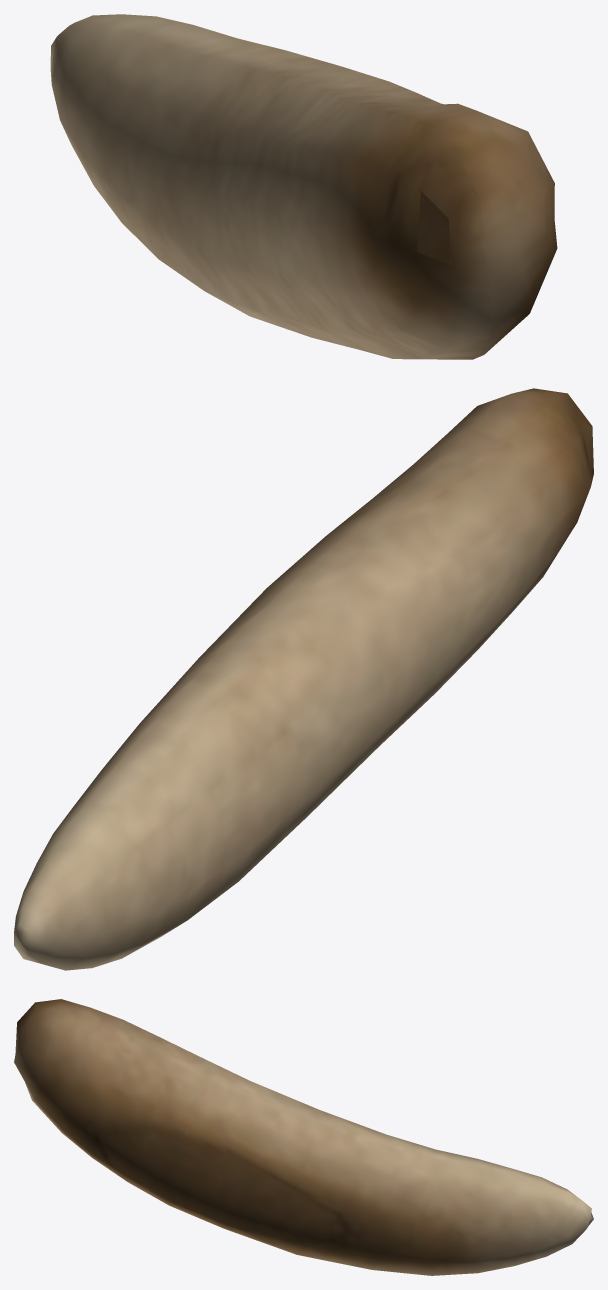
The model's file is Lower_Incisor.glb.
3 renders of one model, top to bottom at view 1: azimuth 30°, elevation 25°; view 2: azimuth 150°, elevation 25°; view 3: azimuth 270°, elevation 25°, orthographic. The views are drawn at different scales.
Parts seen in each view (by area): view 1: Lower_Incisor4; view 2: Lower_Incisor4; view 3: Lower_Incisor4.
Boxes of the visible parts, box(x1,y1,x2,y2) form: Lower_Incisor4: box(50, 14, 557, 359); Lower_Incisor4: box(14, 388, 593, 970); Lower_Incisor4: box(14, 999, 593, 1275).
Size of the model in its own units: 0.00976 by 0.0146 by 0.0329.
1 material, 1 textured.
